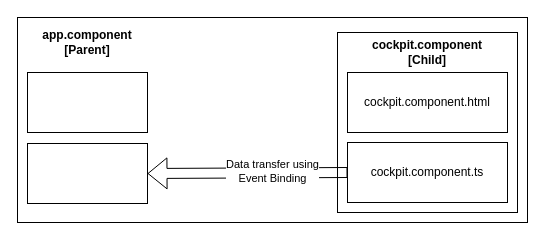
Some shapes in this 545 by 240 pixel diagram are drawn without their labels. Each missing label, with the box of its shape:
app.component.html: (26, 142, 148, 204)
app.component.ts: (26, 72, 148, 132)
